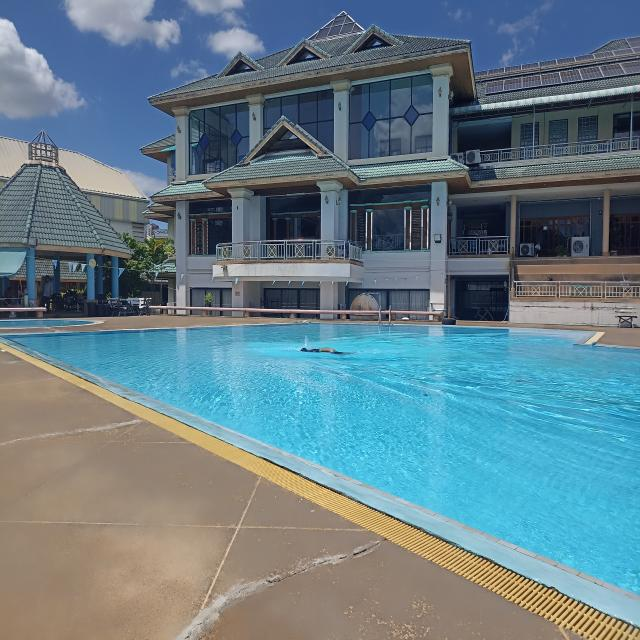Swimming: (287, 328, 355, 376)
